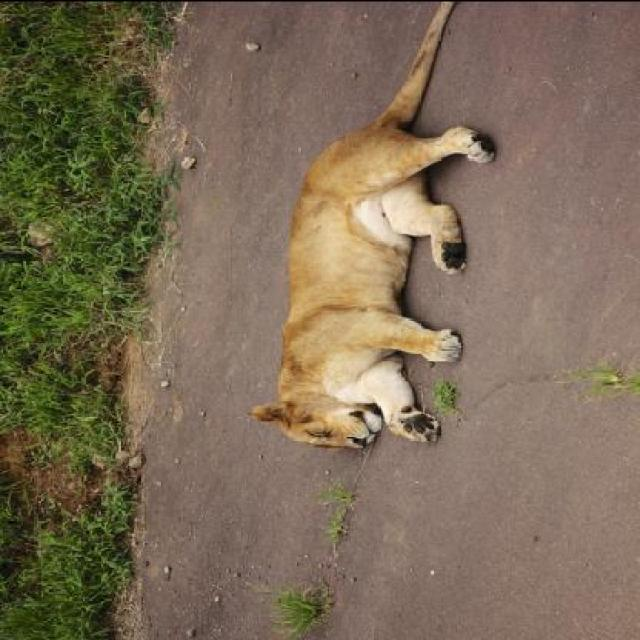Lion: (249, 2, 529, 460)
